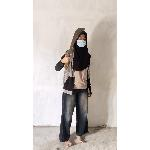Golok: (60, 25, 90, 69)
